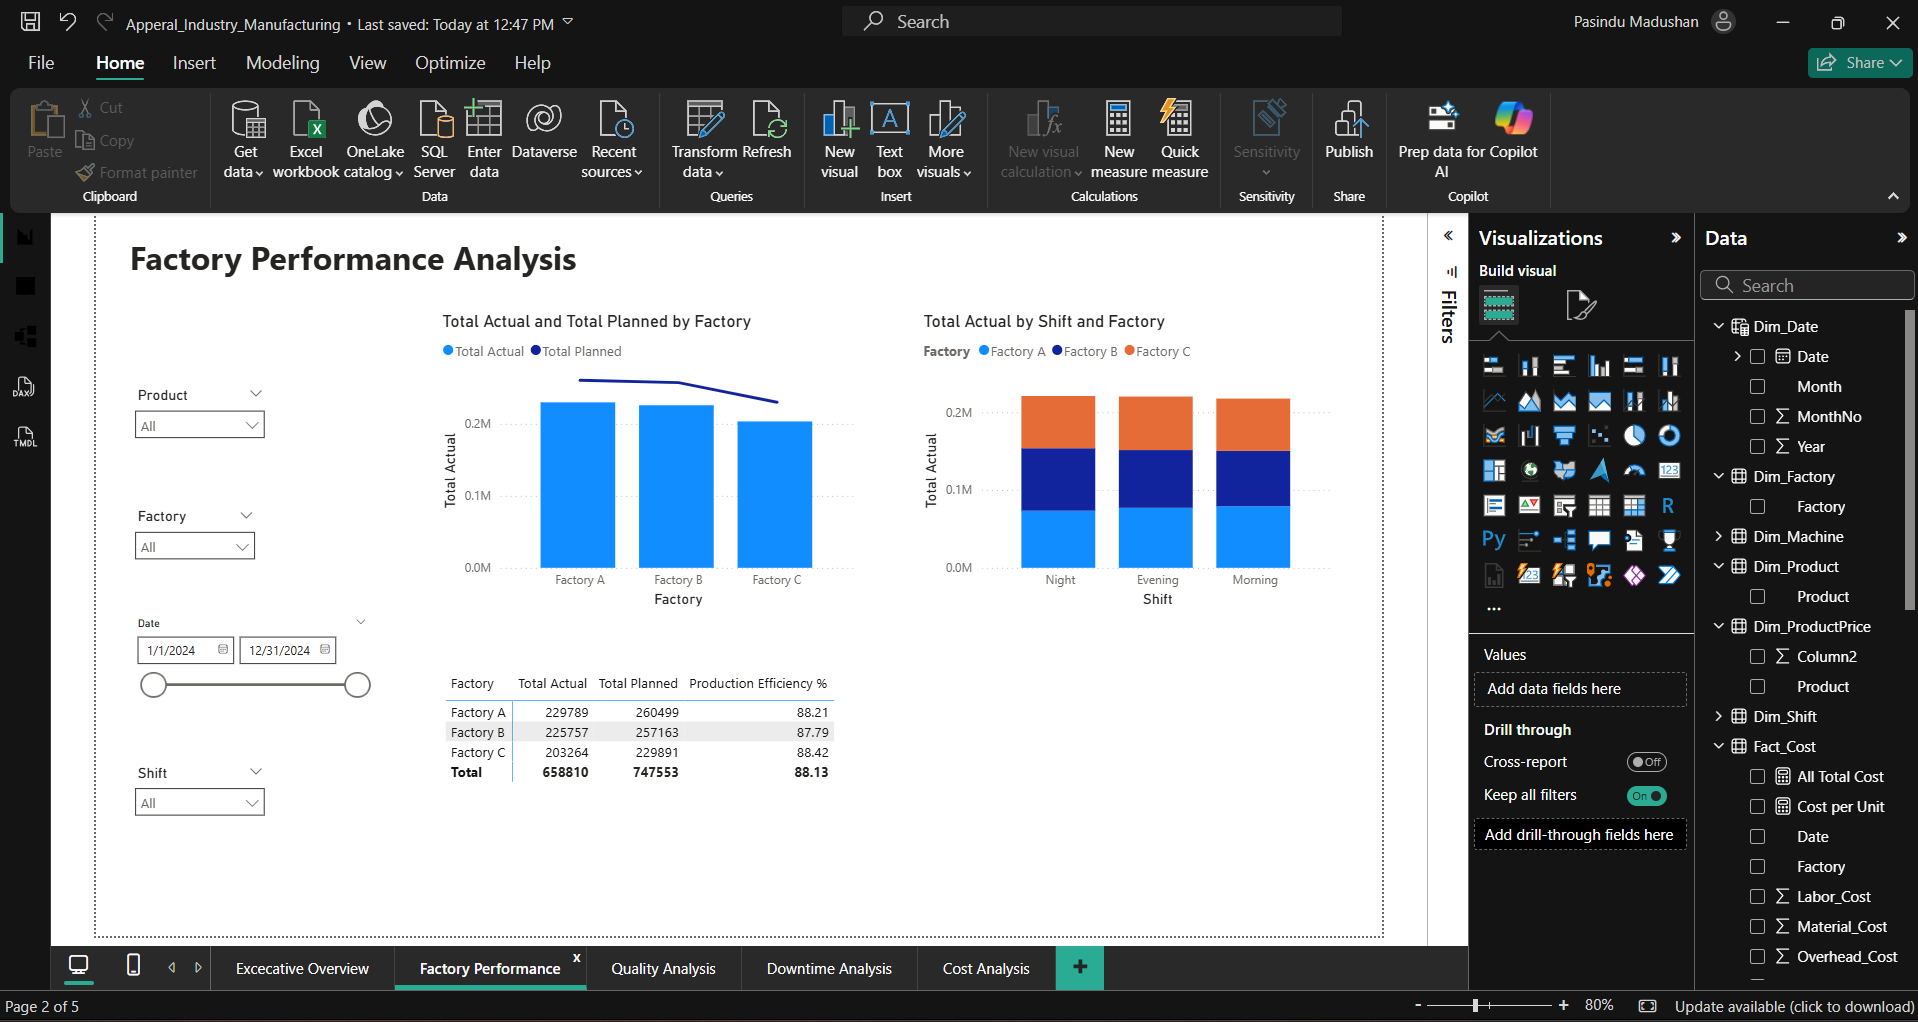

This screenshot's page, from the dashboard's own definition file:
{"tool":"powerbi","page":{"name":"Factory Performance","canvas":[1280,720],"ordinal":1},"visuals":[{"type":"slicer","fields":{"Values":["Fact_Production.Date"]},"box":[28.8,396.6,252.5,111.1],"z":0},{"type":"slicer","fields":{"Values":["Dim_Product.Product"]},"box":[28.8,167.4,149.6,91.9],"z":1000},{"type":"slicer","fields":{"Values":["Dim_Factory.Factory"]},"box":[28.8,288.2,140,91.9],"z":2000},{"type":"slicer","fields":{"Values":["Dim_Shift.Shift"]},"box":[28.8,543.4,149.6,93.3],"z":3000},{"type":"textbox","box":[28.6,17.4,475.2,57.2],"z":4000},{"type":"lineClusteredColumnComboChart","fields":{"Category":["Fact_Production.Factory"],"Y":["Fact_Production.Total Actual"],"Y2":["Fact_Production.Total Planned"]},"box":[339.6,97,421.7,299.8],"z":5000},{"type":"pivotTable","fields":{"Rows":["Fact_Production.Factory"],"Values":["Fact_Production.Total Actual","Fact_Production.Total Planned","Fact_Production.Production Efficiency %"]},"box":[343.3,451.6,427.9,215.2],"z":6000},{"type":"columnChart","fields":{"Series":["Fact_Downtime.Factory"],"Y":["Fact_Production.Total Actual"],"Category":["Dim_Shift.Shift"]},"box":[818.5,97,418,299.8],"z":7000}]}

Visuals, with their boxes on the page's 1280x720 design canvas (x1, y1, x2, y2). These are canvas units, not pixel positions in the 1918x1022 screenshot, which may show the page scaled, cropped or inside an application window:
slicer - Fact_Production.Date: (29, 397, 281, 508)
slicer - Dim_Product.Product: (29, 167, 178, 259)
slicer - Dim_Factory.Factory: (29, 288, 169, 380)
slicer - Dim_Shift.Shift: (29, 543, 178, 637)
textbox: (29, 17, 504, 75)
lineClusteredColumnComboChart - Fact_Production.Factory x Fact_Production.Total Actual: (340, 97, 761, 397)
pivotTable - Fact_Production.Factory x Fact_Production.Total Actual: (343, 452, 771, 667)
columnChart - Fact_Downtime.Factory x Fact_Production.Total Actual: (818, 97, 1236, 397)
